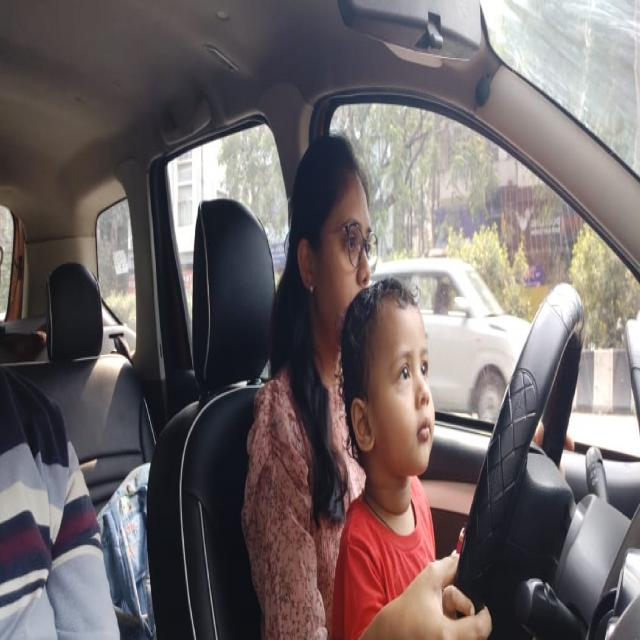child: (331, 274, 438, 489)
person: (282, 129, 373, 295)
